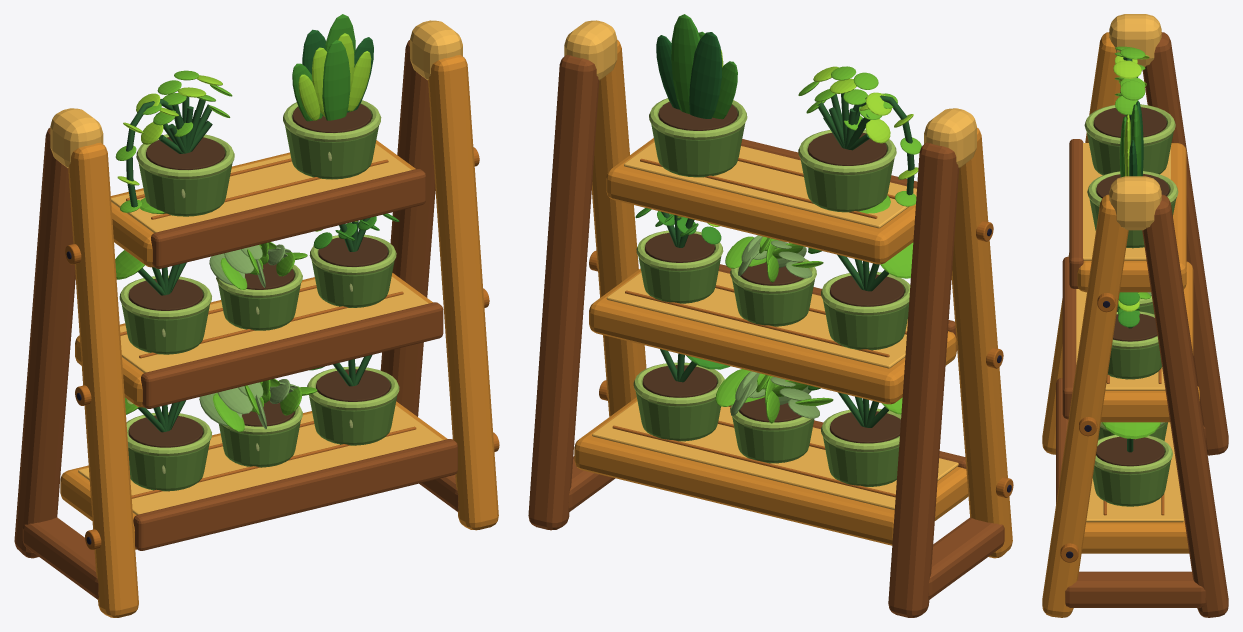
File: plant-zone.glb
3 renders of one model, left to right at view 1: azimuth 30°, elevation 25°; view 2: azimuth 150°, elevation 25°; view 3: azimuth 270°, elevation 25°, orthographic. The views are drawn at different scales.
Visible parts, largest first — view 1: R_Front_Leg, L_Front_Leg, L_Rear_Leg, Bottom_Front_Lip, Middle_Front_Lip, Top_Front_Lip, R_Rear_Leg, Bottom_Top_Highlight, Middle_Top_Highlight, Top_Snake_Plant, Top_Top_Highlight, Top_Trailing_Coin_Plant (+36 smaller); view 2: L_Rear_Leg, R_Rear_Leg, L_Front_Leg, Bottom_Shelf, Middle_Shelf, Top_Shelf, R_Front_Leg, Bottom_Top_Highlight, Middle_Top_Highlight, Top_Snake_Plant, Top_Top_Highlight, Top_Trailing_Coin_Plant (+36 smaller); view 3: R_Rear_Leg, R_Front_Leg, L_Rear_Leg, R_Bottom_Brace, Bottom_Shelf, L_Front_Leg, Top_Shelf, Middle_Shelf, Bottom_Top_Highlight, Bottom_Monstera_Ceramic_Body, R_Top_Cap, Top_Front_Lip (+23 smaller).
Part boxes in pixels (x1=…): R_Front_Leg: x1=428, y1=55, x2=498, y2=530; L_Front_Leg: x1=68, y1=142, x2=138, y2=617; L_Rear_Leg: x1=14, y1=128, x2=75, y2=558; Bottom_Front_Lip: x1=133, y1=439, x2=457, y2=550; Middle_Front_Lip: x1=141, y1=302, x2=443, y2=408; Top_Front_Lip: x1=151, y1=169, x2=425, y2=268; R_Rear_Leg: x1=380, y1=40, x2=435, y2=416; Bottom_Top_Highlight: x1=78, y1=405, x2=443, y2=514; Middle_Top_Highlight: x1=120, y1=276, x2=428, y2=372; Top_Snake_Plant: x1=292, y1=14, x2=373, y2=121; Top_Top_Highlight: x1=111, y1=144, x2=411, y2=232; Top_Trailing_Coin_Plant: x1=115, y1=70, x2=232, y2=212; L_Rear_Leg: x1=888, y1=142, x2=959, y2=617; R_Rear_Leg: x1=528, y1=55, x2=599, y2=530; L_Front_Leg: x1=951, y1=127, x2=1012, y2=558; Bottom_Shelf: x1=574, y1=397, x2=968, y2=545; Middle_Shelf: x1=589, y1=268, x2=956, y2=404; Top_Shelf: x1=606, y1=138, x2=915, y2=264; R_Front_Leg: x1=591, y1=40, x2=646, y2=416; Bottom_Top_Highlight: x1=592, y1=401, x2=958, y2=509; Middle_Top_Highlight: x1=606, y1=271, x2=907, y2=368; Top_Snake_Plant: x1=656, y1=14, x2=737, y2=119; Top_Top_Highlight: x1=624, y1=141, x2=916, y2=228; Top_Trailing_Coin_Plant: x1=798, y1=66, x2=921, y2=206; R_Rear_Leg: x1=1142, y1=194, x2=1228, y2=617; R_Front_Leg: x1=1042, y1=194, x2=1128, y2=617; L_Rear_Leg: x1=1142, y1=32, x2=1228, y2=455; R_Bottom_Brace: x1=1065, y1=571, x2=1205, y2=607; Bottom_Shelf: x1=1081, y1=386, x2=1199, y2=553; L_Front_Leg: x1=1042, y1=32, x2=1120, y2=454; Top_Shelf: x1=1077, y1=143, x2=1186, y2=292; Middle_Shelf: x1=1070, y1=261, x2=1193, y2=422; Bottom_Top_Highlight: x1=1086, y1=422, x2=1184, y2=522; Bottom_Monstera_Ceramic_Body: x1=1092, y1=453, x2=1170, y2=506; R_Top_Cap: x1=1109, y1=176, x2=1161, y2=230; Top_Front_Lip: x1=1069, y1=139, x2=1083, y2=288.
Bounding box in the file's own units: 1.65 × 1.96 × 0.7085.
